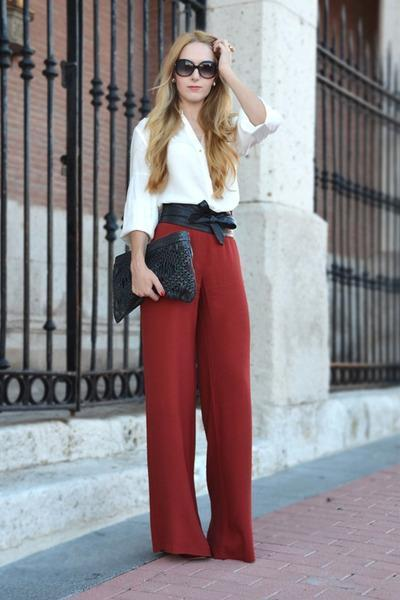bag: (109, 227, 195, 316)
pants: (139, 221, 254, 562)
shirt: (119, 108, 262, 236)
sunglass: (169, 51, 208, 83)
